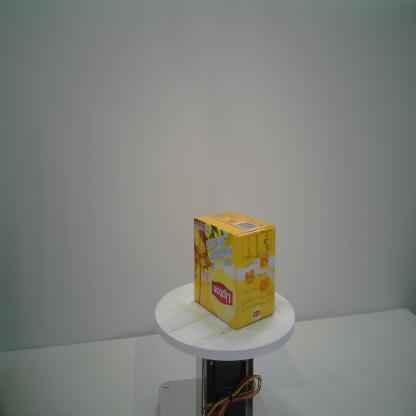Instant Drink: (193, 210, 276, 331)
